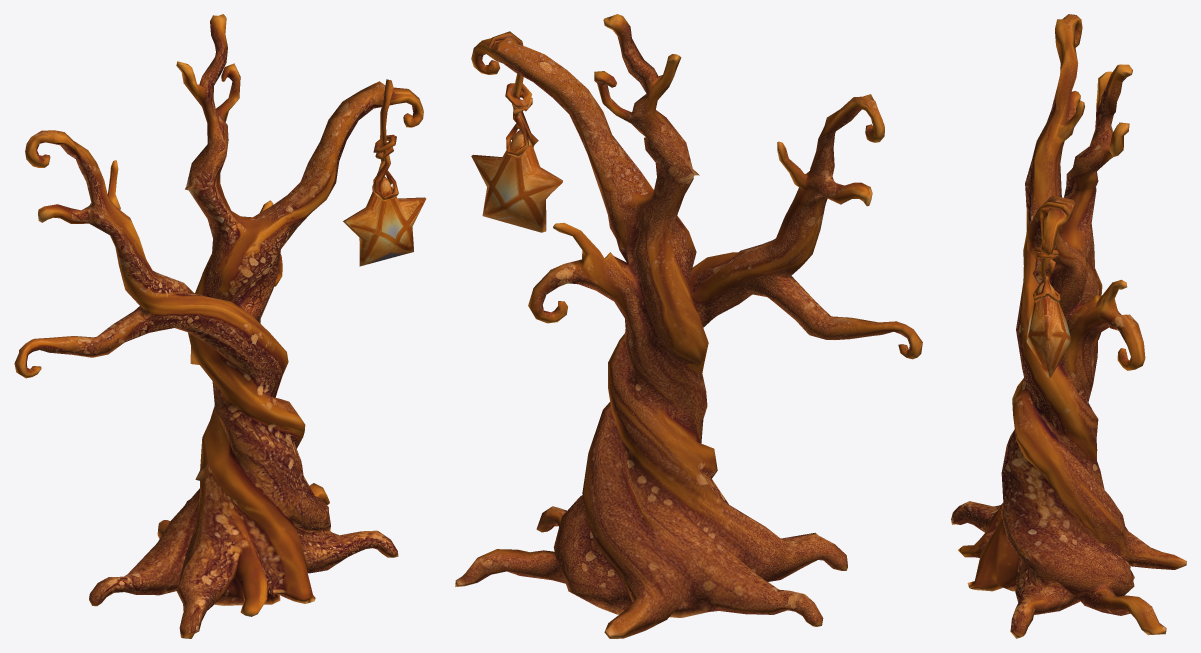
The model's file is AW-HW-TREE-005-v0.2.glb.
3 views of the same model, side by side, from view 1: azimuth 30°, elevation 25°; view 2: azimuth 150°, elevation 25°; view 3: azimuth 270°, elevation 25° (orthographic). The views are drawn at different scales.
Visible parts, largest first — view 1: AW-HW-TREE-005_meter_ground_pivot; view 2: AW-HW-TREE-005_meter_ground_pivot; view 3: AW-HW-TREE-005_meter_ground_pivot.
Boxes of the visible parts, x1,y1,x2,y2 form: AW-HW-TREE-005_meter_ground_pivot: (14,14,426,638); AW-HW-TREE-005_meter_ground_pivot: (455,14,922,638); AW-HW-TREE-005_meter_ground_pivot: (951,14,1186,638).
Size of the model in its own units: 3.2 by 4 by 1.66.
Materials: 1 (1 with a texture image).
